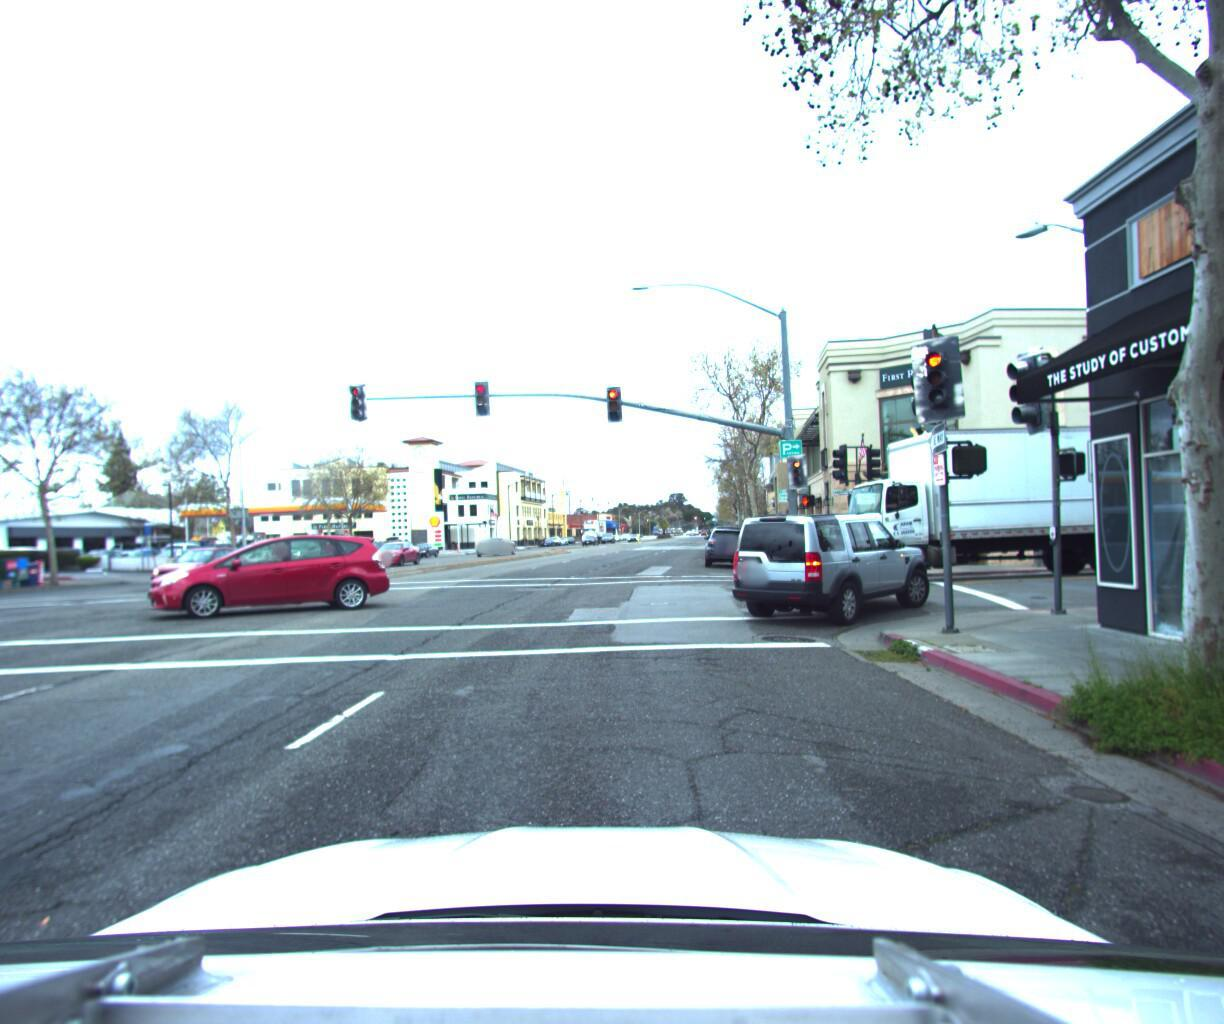car: (720, 498, 930, 625), (136, 535, 392, 631), (150, 550, 263, 596), (701, 531, 748, 579), (0, 550, 67, 582), (93, 544, 160, 571), (365, 546, 426, 574), (164, 546, 218, 576)
truck: (764, 420, 1224, 601)
